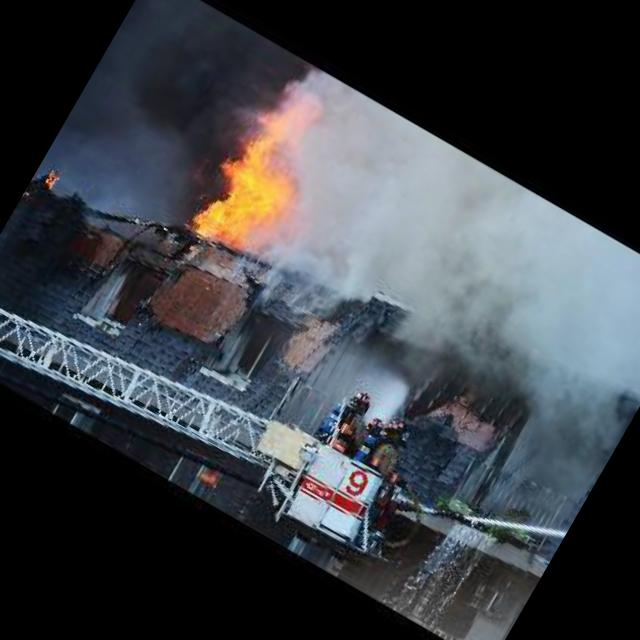fire: (182, 62, 346, 266)
smoke: (233, 82, 640, 486)
